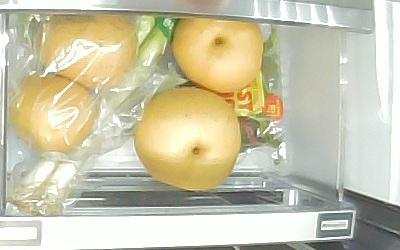pear: (133, 87, 240, 191), (171, 18, 263, 91)
pear_vinyl: (35, 15, 139, 93), (9, 75, 97, 152)
